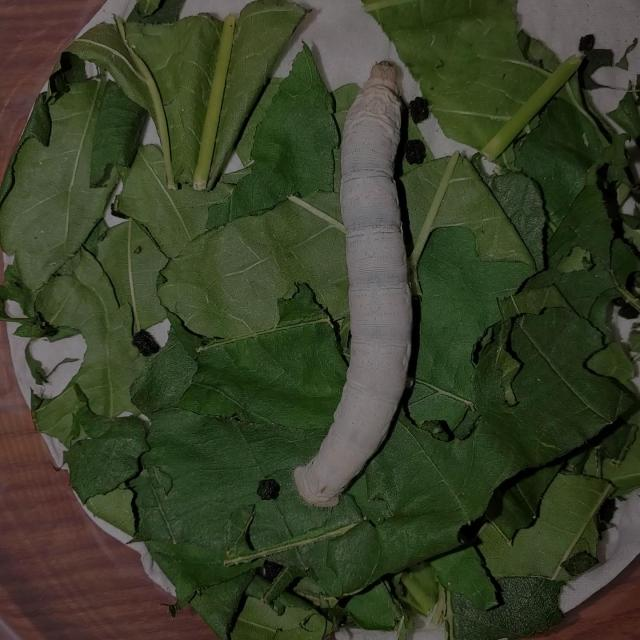Healthy: (279, 42, 443, 545)
